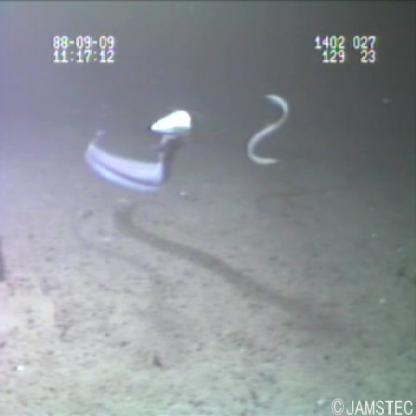Bio: (79, 105, 197, 202), (242, 89, 300, 181)
